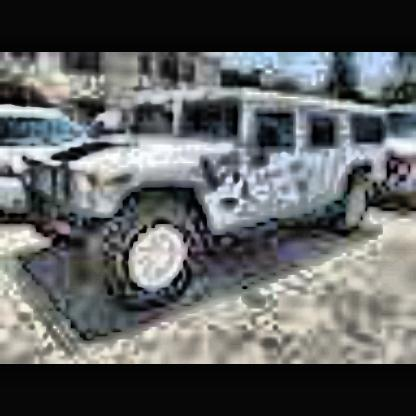AM General Hummer SUV 2000: (23, 88, 395, 308)
